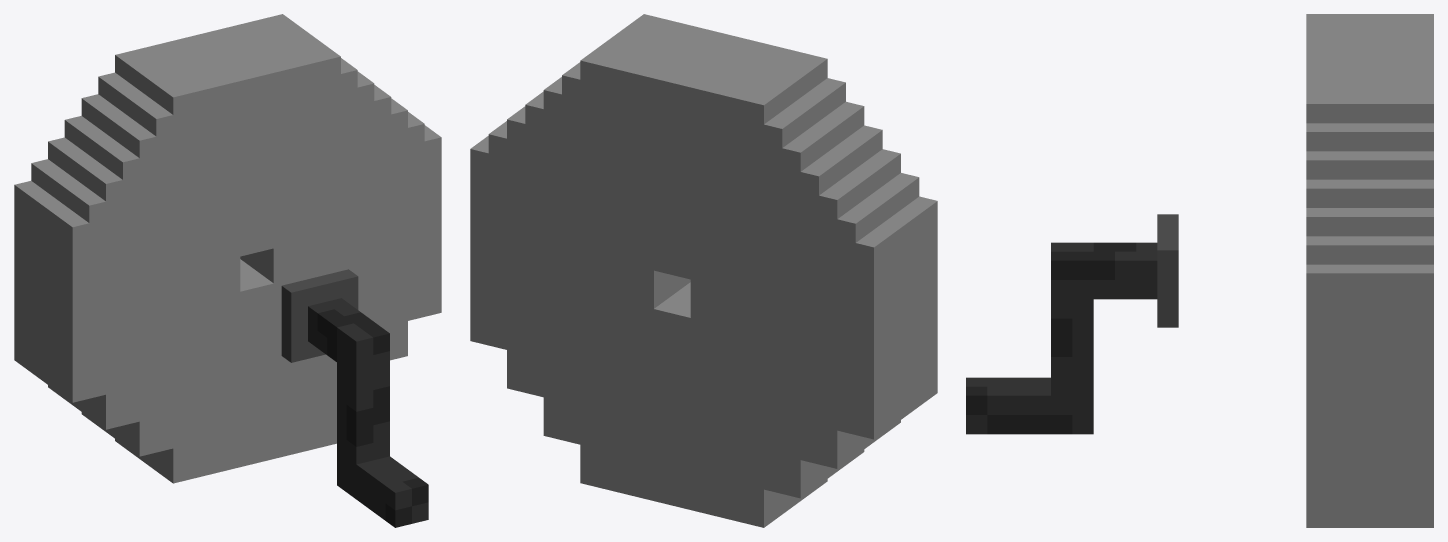
The model's file is Medieval Assets-202-Crafting - Work - Sharpening Wheel - Wheel.obj.
3 views of the same model, side by side, from view 1: azimuth 30°, elevation 25°; view 2: azimuth 150°, elevation 25°; view 3: azimuth 270°, elevation 25° (orthographic). The views are drawn at different scales.
Parts seen in each view (by area): view 1: Crafting - Work - Sharpening Wheel - Wheel; view 2: Crafting - Work - Sharpening Wheel - Wheel; view 3: Crafting - Work - Sharpening Wheel - Wheel.
Boxes of the visible parts, x1,y1,x2,y2 form: Crafting - Work - Sharpening Wheel - Wheel: (14, 14, 441, 527); Crafting - Work - Sharpening Wheel - Wheel: (470, 14, 937, 527); Crafting - Work - Sharpening Wheel - Wheel: (966, 14, 1433, 527).
Bounding box in the file's own units: 2.2 × 2.2 × 2.2.
Materials: 1 (1 with a texture image).
